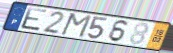2: (41, 10, 66, 35)
5: (85, 15, 110, 40)
6: (107, 19, 129, 44)
8: (128, 22, 151, 46)
E: (19, 6, 49, 33)
M: (59, 12, 94, 39)
